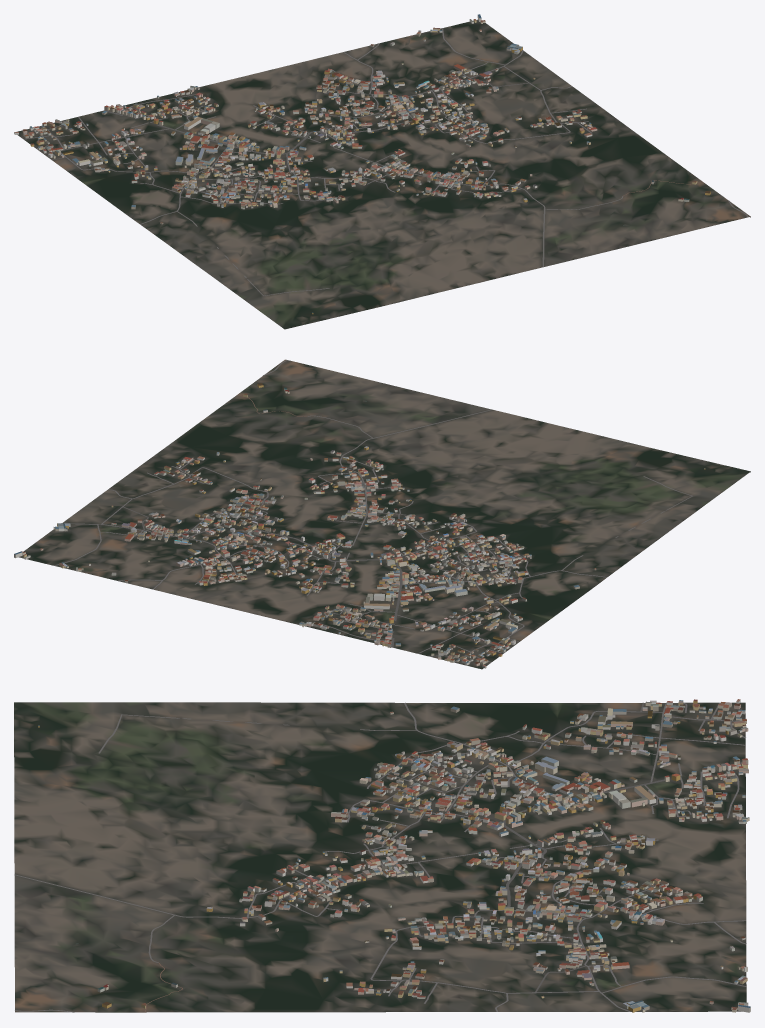
3 views of the same model, one above another, from view 1: azimuth 30°, elevation 25°; view 2: azimuth 150°, elevation 25°; view 3: azimuth 270°, elevation 25° (orthographic). The views are drawn at different scales.
Parts seen in each view (by area): view 1: ground, buildings, roads; view 2: ground, buildings, roads; view 3: ground, buildings, roads.
Part boxes in pixels (left/top/right/bottom): ground: left=14, top=19, right=750, bottom=329; buildings: left=14, top=14, right=710, bottom=314; roads: left=23, top=28, right=748, bottom=295; ground: left=18, top=359, right=750, bottom=669; buildings: left=14, top=383, right=705, bottom=668; roads: left=54, top=360, right=692, bottom=662; ground: left=14, top=702, right=746, bottom=1012; buildings: left=38, top=699, right=750, bottom=1012; roads: left=14, top=702, right=746, bottom=1012.
Size of the model in its own units: 1407 by 16.89 by 1412.
